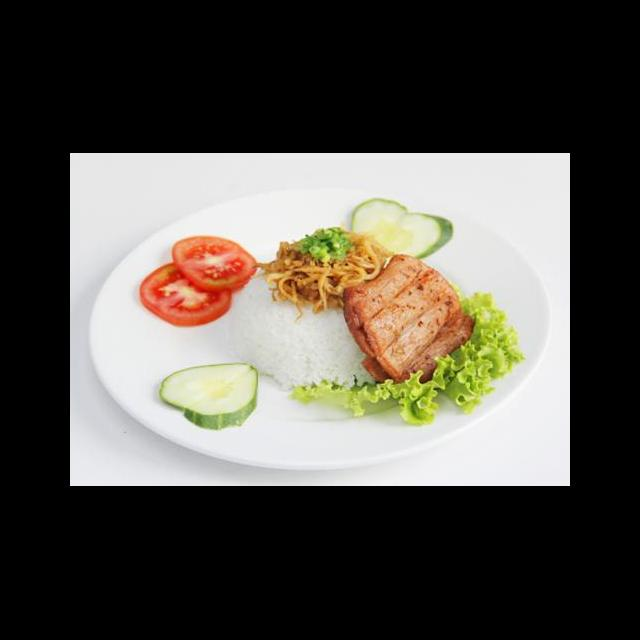bi: (247, 220, 398, 324)
com: (226, 268, 380, 394)
com suon: (104, 201, 524, 462)
suon: (340, 252, 478, 386)
